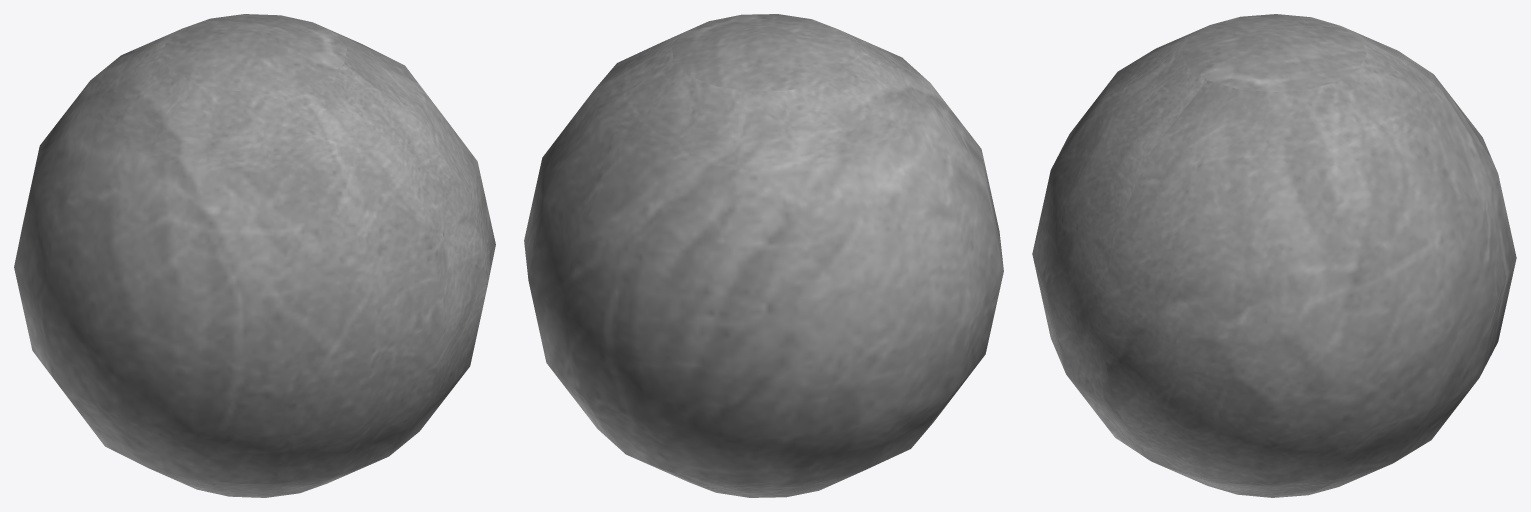
The model's file is 61_ELM_Rock.fbx.
3 views of the same model, side by side, from view 1: azimuth 30°, elevation 25°; view 2: azimuth 150°, elevation 25°; view 3: azimuth 270°, elevation 25° (orthographic).
Parts seen in each view (by area): view 1: Rock; view 2: Rock; view 3: Rock.
Boxes of the visible parts, x1,y1,x2,y2 form: Rock: [14, 14, 495, 497]; Rock: [524, 14, 1003, 497]; Rock: [1032, 14, 1516, 497].
Bounding box in the file's own units: 1.14 × 1.14 × 1.14.
1 material, 1 textured.
